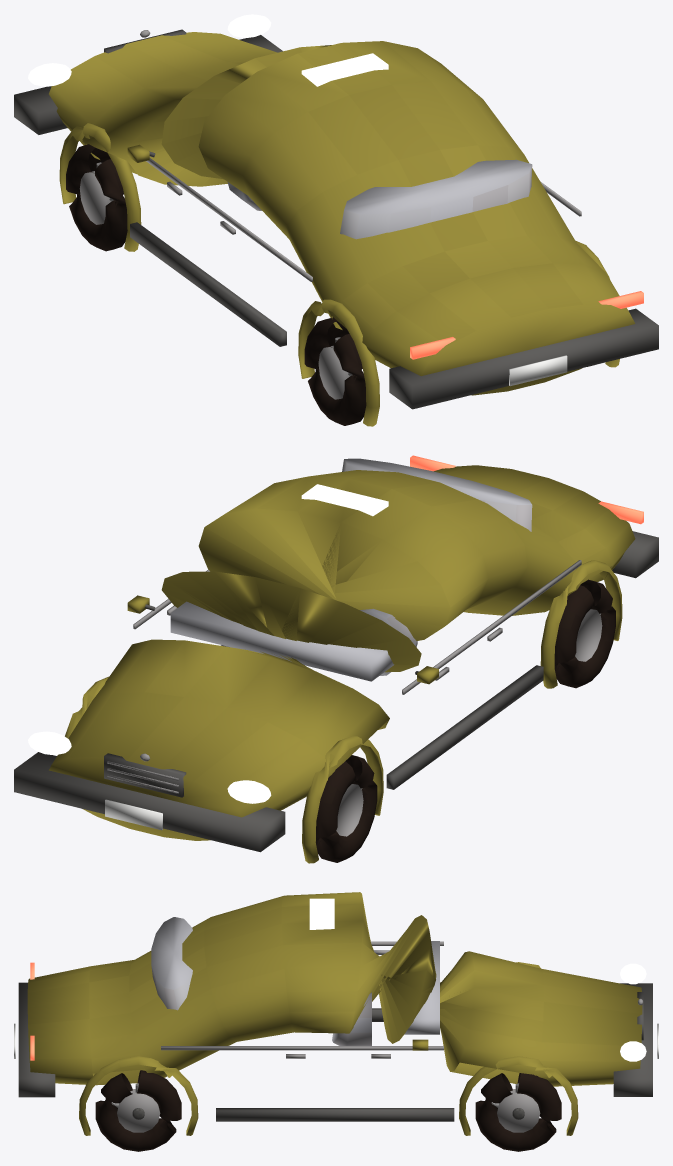
Rendered from taxi.glb.
The picture shows the model from 3 angles, top to bottom: view 1: azimuth 30°, elevation 25°; view 2: azimuth 150°, elevation 25°; view 3: azimuth 270°, elevation 25°; orthographic projection. The views are drawn at different scales.
Visible parts, largest first — view 1: Body, WheelRL, WheelFL; view 2: Body, WheelRL, WheelFL; view 3: Body, WheelRR, WheelFR.
Part boxes in pixels (x1,y1,x2,y2): Body: (14,14,658,426); WheelRL: (304,317,366,425); WheelFL: (66,144,127,251); Body: (14,455,658,863); WheelRL: (554,579,615,688); WheelFL: (315,755,377,862); Body: (14,892,658,1135); WheelRR: (95,1070,181,1151); WheelFR: (475,1073,561,1151).
Bounding box in the file's own units: 2.12 × 1.61 × 4.92.
Materials: 9 (6 with a texture image).
